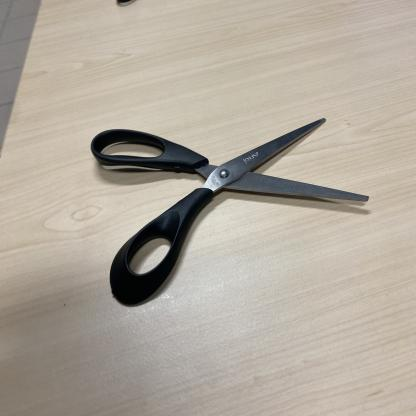scissors: (90, 116, 369, 307)
